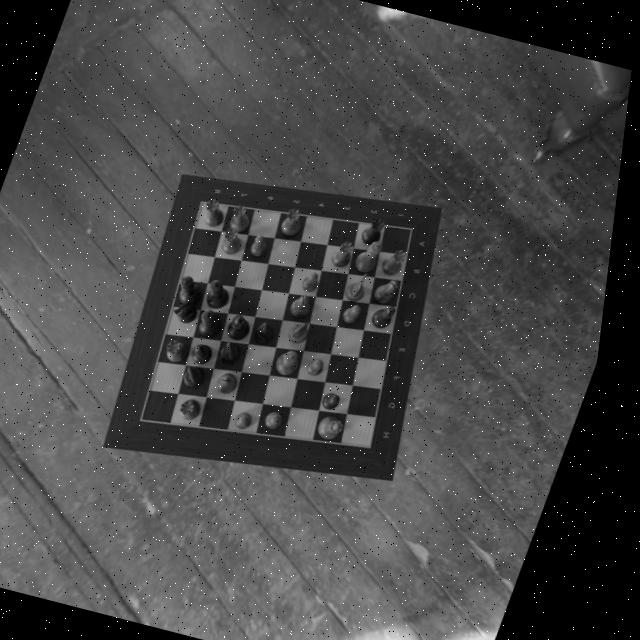chessboard: (151, 203, 418, 448)
